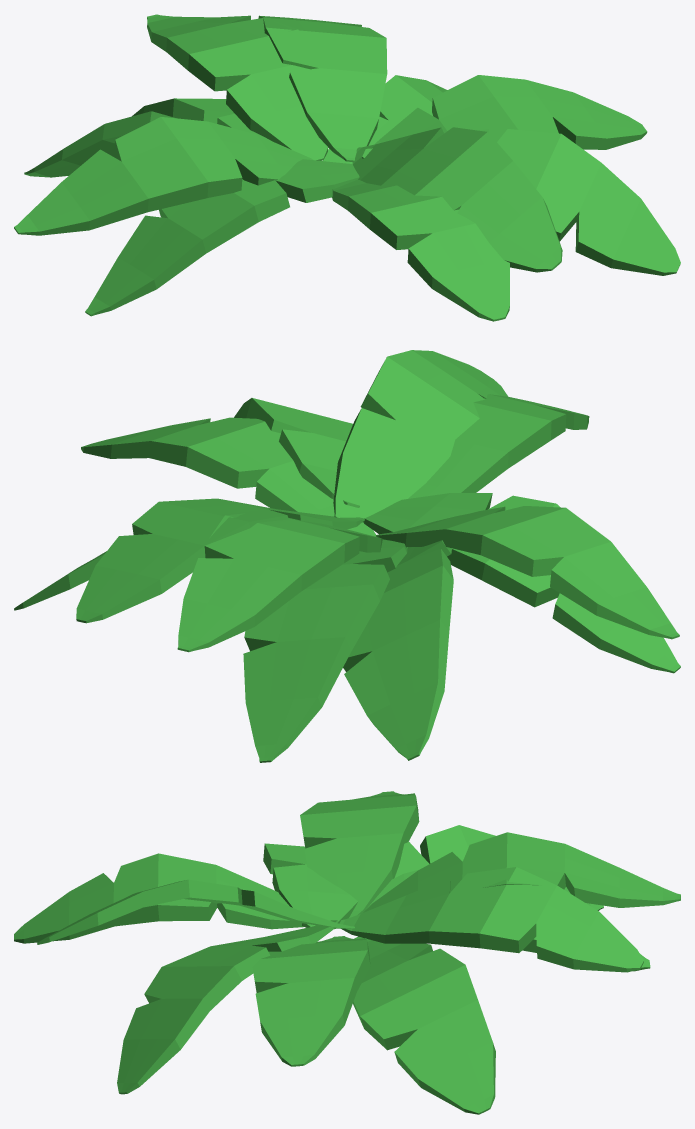
File: Hojas palmeras .fbx
The picture shows the model from 3 angles, top to bottom: view 1: azimuth 30°, elevation 25°; view 2: azimuth 150°, elevation 25°; view 3: azimuth 270°, elevation 25°; orthographic projection. The views are drawn at different scales.
Parts seen in each view (by area): view 1: Hojas; view 2: Hojas; view 3: Hojas.
Part boxes in pixels (bbox=[...]): Hojas: bbox=[14, 14, 680, 321]; Hojas: bbox=[14, 350, 680, 762]; Hojas: bbox=[14, 791, 680, 1114].
Bounding box in the file's own units: 928 × 244 × 973.
